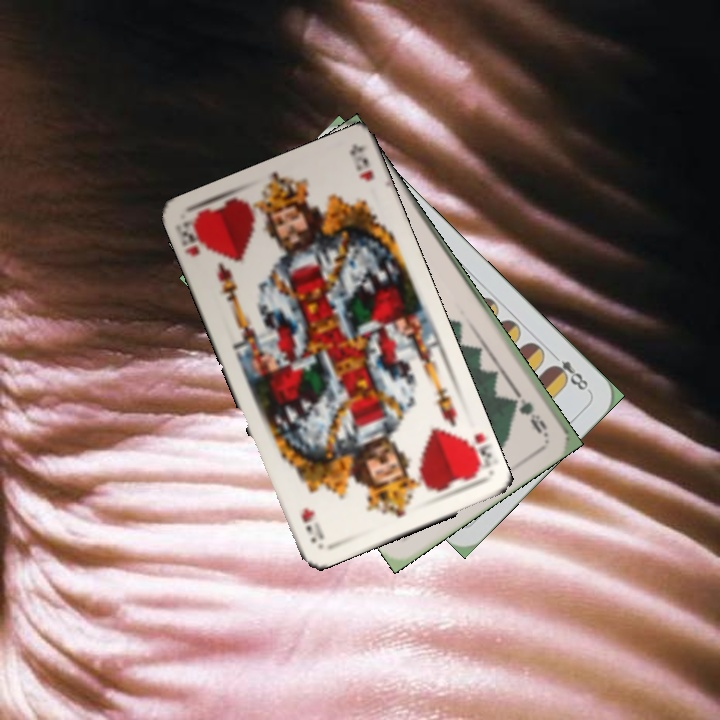E8: (546, 348, 593, 395)
G9: (510, 386, 550, 438)
HK: (457, 429, 495, 478), (178, 216, 211, 259)
